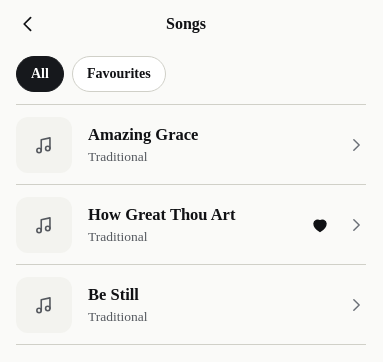
Test: SongsListScreen › favourites › lists only the favourites under the Favourites chip, and everything again under All
Expected: the button with test id "song-s1" is shown, [16, 105, 366, 185]
Click the button with test id "songs-filter-favourites" at (119, 74), box [72, 56, 166, 92]
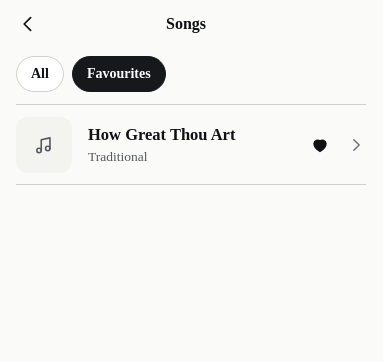
Expected: the button with test id "song-s2" is shown, [16, 105, 366, 185]
Expected: the button with test id "song-s1" is gone
Expected: the button with test id "song-s3" is gone
Click the button with test id "songs-filter-all" at (40, 74), box [16, 56, 64, 92]
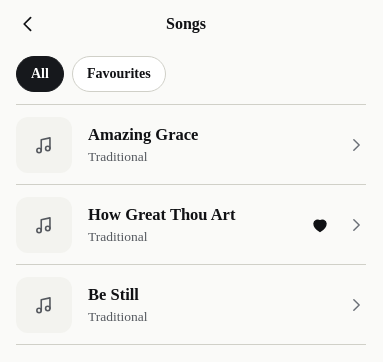
Expected: the button with test id "song-s2" is shown, [16, 185, 366, 265]
Expected: the button with test id "song-s1" is shown, [16, 105, 366, 185]
Expected: the button with test id "song-s3" is shown, [16, 265, 366, 345]
